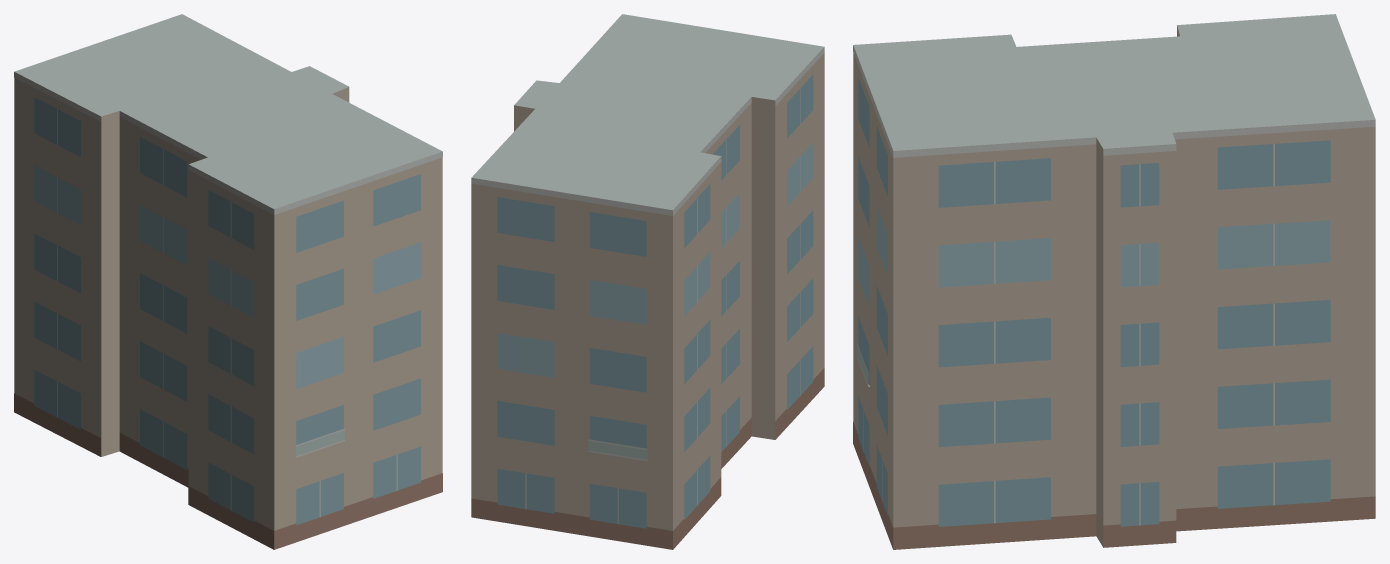
Rendered from survey-upis-32760686.glb.
3 renders of one model, left to right at view 1: azimuth 30°, elevation 25°; view 2: azimuth 150°, elevation 25°; view 3: azimuth 270°, elevation 25°, orthographic. The views are drawn at different scales.
Visible parts, largest first — view 1: survey-upis-32760686.tmp; view 2: survey-upis-32760686.tmp; view 3: survey-upis-32760686.tmp.
Boxes of the visible parts, bbox=[...] form: survey-upis-32760686.tmp: bbox=[14, 14, 442, 549]; survey-upis-32760686.tmp: bbox=[471, 14, 824, 549]; survey-upis-32760686.tmp: bbox=[853, 14, 1375, 549].
Bounding box in the file's own units: 10.47 × 14.2 × 16.87.
